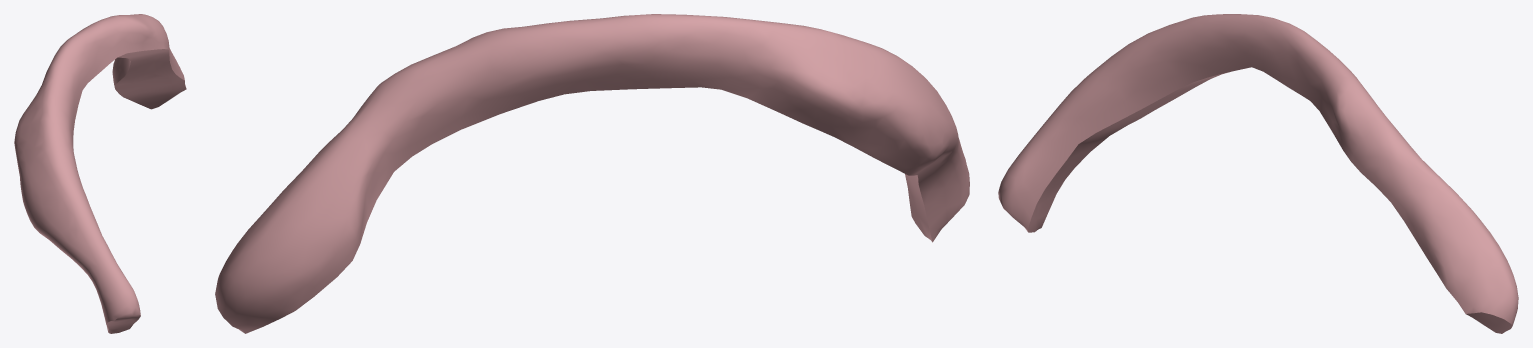
File: fma16916_mm1607m.glb
The picture shows the model from 3 angles, left to right: view 1: azimuth 30°, elevation 25°; view 2: azimuth 150°, elevation 25°; view 3: azimuth 270°, elevation 25°; orthographic projection. The views are drawn at different scales.
Visible parts, largest first — view 1: FMA16916_MM1607M; view 2: FMA16916_MM1607M; view 3: FMA16916_MM1607M.
Boxes of the visible parts, x1,y1,x2,y2 form: FMA16916_MM1607M: (14, 14, 186, 333); FMA16916_MM1607M: (215, 14, 969, 333); FMA16916_MM1607M: (998, 14, 1518, 333).
Bounding box in the file's own units: 0.1085 × 0.0705 × 0.1374.
